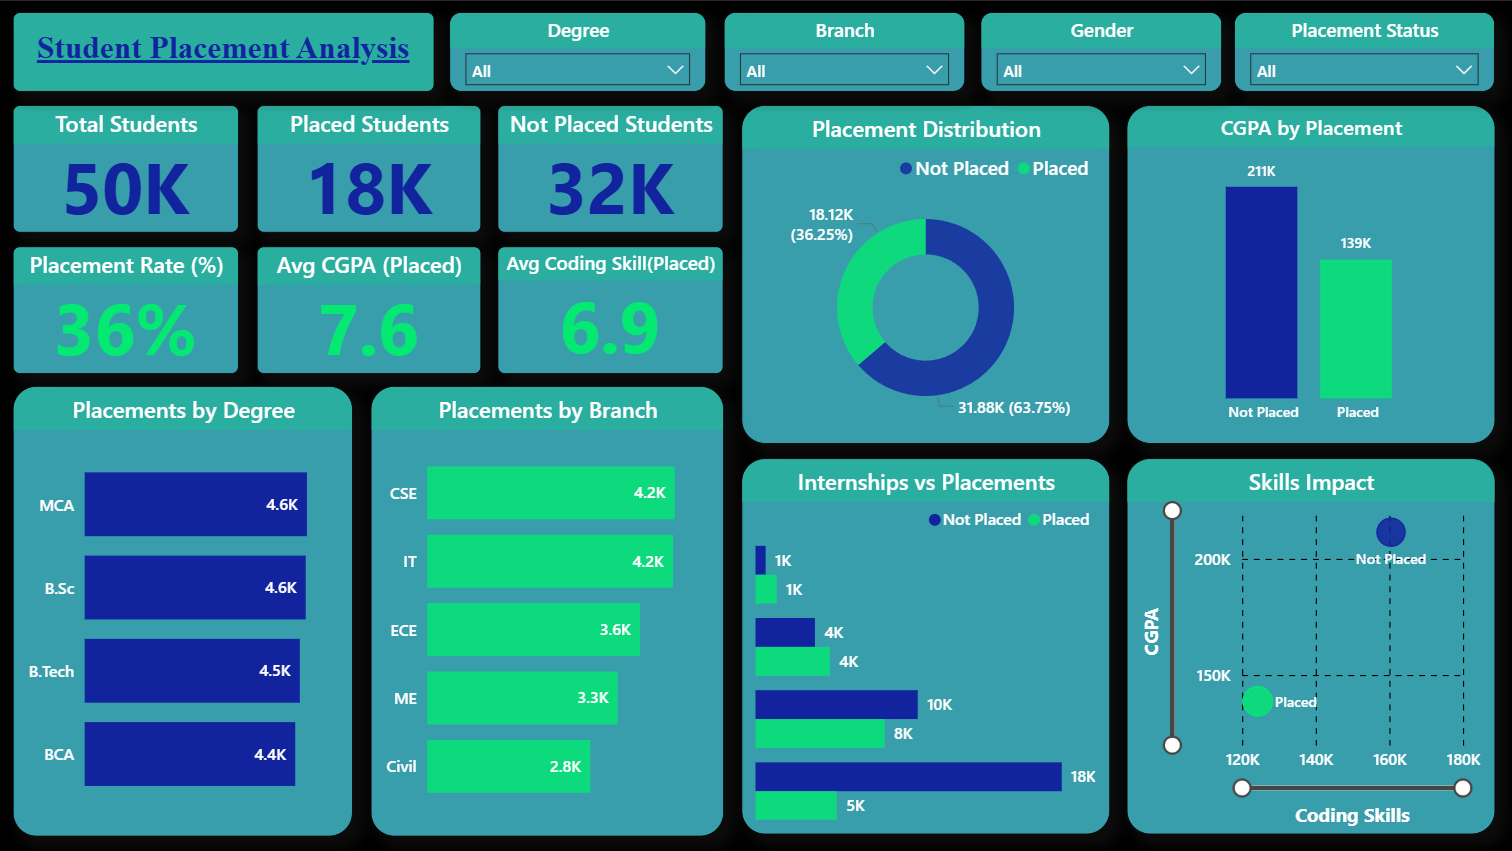

What the dashboard file says about the page in this screenshot:
{"tool":"powerbi","page":{"name":"Page 1","canvas":[1280,720],"ordinal":0},"visuals":[{"type":"card","title":"Total Students","fields":{"Values":["Placements.Total Students"]},"box":[11.3,88.5,191.4,107.8],"z":0},{"type":"card","title":"Placed Students","fields":{"Values":["Placements.Placed Students"]},"box":[217.2,88.5,189.8,107.8],"z":1000},{"type":"card","title":"Not Placed Students","fields":{"Values":["Placements.Not Placed Students"]},"box":[421.5,88.5,191.4,107.8],"z":2000},{"type":"card","title":"Placement Rate (%)","fields":{"Values":["Placements.Placement Rate (%)"]},"box":[11.3,207.5,191.4,107.8],"z":3000},{"type":"card","title":"Avg CGPA (Placed)","fields":{"Values":["Placements.Avg CGPA (Placed)"]},"box":[217.2,207.5,189.8,107.8],"z":4000},{"type":"card","title":"Avg Coding Skill(Placed)","fields":{"Values":["Placements.Avg Coding Skill (Placed)"]},"box":[421.5,207.5,191.4,107.8],"z":5000},{"type":"donutChart","title":"Placement Distribution","fields":{"Category":["Placements.Placement_Status"],"Y":["CountNonNull(Placements.Student_ID)"]},"box":[627.4,88.5,312.1,286.4],"z":6000},{"type":"clusteredBarChart","title":"Placements by Degree","fields":{"Category":["Placements.Degree"],"Y":["Placements.Placed Students"]},"box":[11.3,326.6,287.9,381.3],"z":7000},{"type":"clusteredBarChart","title":"Placements by Branch","fields":{"Y":["Placements.Placed Students"],"Category":["Placements.Branch"]},"box":[313.7,326.6,299.2,381.3],"z":8000},{"type":"clusteredBarChart","title":"Internships vs Placements","fields":{"Category":["Placements.Internships"],"Y":["Placements.Total Students"],"Series":["Placements.Placement_Status"]},"box":[627.4,387.7,312.1,318.5],"z":9000},{"type":"clusteredColumnChart","title":"CGPA by Placement","fields":{"Y":["Sum(Placements.CGPA)"],"Category":["Placements.Placement_Status"]},"box":[954,88.5,312.1,286.4],"z":10000},{"type":"scatterChart","title":"Skills Impact","fields":{"Size":["Sum(Placements.Internships)"],"X":["Sum(Placements.Coding_Skills)"],"Y":["Sum(Placements.CGPA)"],"Series":["Placements.Placement_Status"]},"box":[954,387.7,312.1,318.5],"z":11000},{"type":"textbox","box":[11.3,9.7,357.1,67.6],"z":12000},{"type":"slicer","title":"Degree","fields":{"Values":["Placements.Degree"]},"box":[381.3,9.7,217.2,67.6],"z":13000},{"type":"slicer","title":"Branch","fields":{"Values":["Placements.Branch"]},"box":[612.9,9.7,204.3,67.6],"z":14000},{"type":"slicer","title":"Gender","fields":{"Values":["Placements.Gender"]},"box":[830.1,9.7,204.3,67.6],"z":15000},{"type":"slicer","title":"Placement Status","fields":{"Values":["Placements.Placement_Status"]},"box":[1045.7,9.7,220.4,67.6],"z":16000}]}

Visuals, with their boxes in screenshot pixels (x1, y1, x2, y2), scaled from the page's 1280x720 canvas onto the 1512x851 screenshot:
"Total Students" card: x1=13, y1=105, x2=239, y2=232
"Placed Students" card: x1=257, y1=105, x2=481, y2=232
"Not Placed Students" card: x1=498, y1=105, x2=724, y2=232
"Placement Rate (%)" card: x1=13, y1=245, x2=239, y2=373
"Avg CGPA (Placed)" card: x1=257, y1=245, x2=481, y2=373
"Avg Coding Skill(Placed)" card: x1=498, y1=245, x2=724, y2=373
"Placement Distribution" donutChart: x1=741, y1=105, x2=1110, y2=443
"Placements by Degree" clusteredBarChart: x1=13, y1=386, x2=353, y2=837
"Placements by Branch" clusteredBarChart: x1=371, y1=386, x2=724, y2=837
"Internships vs Placements" clusteredBarChart: x1=741, y1=458, x2=1110, y2=835
"CGPA by Placement" clusteredColumnChart: x1=1127, y1=105, x2=1496, y2=443
"Skills Impact" scatterChart: x1=1127, y1=458, x2=1496, y2=835
textbox: x1=13, y1=11, x2=435, y2=91
"Degree" slicer: x1=450, y1=11, x2=707, y2=91
"Branch" slicer: x1=724, y1=11, x2=965, y2=91
"Gender" slicer: x1=981, y1=11, x2=1222, y2=91
"Placement Status" slicer: x1=1235, y1=11, x2=1496, y2=91
